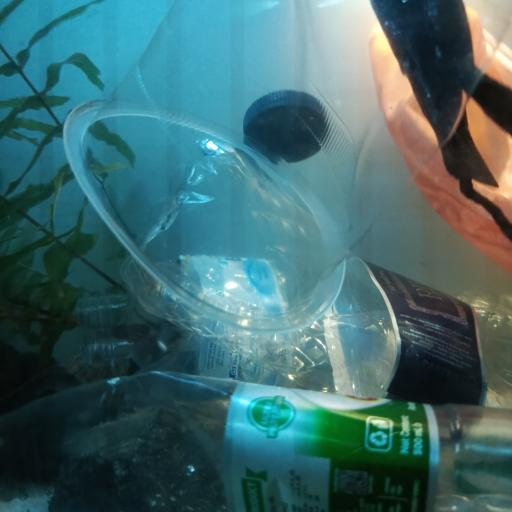bottle_cap: (243, 90, 330, 161)
mask: (365, 0, 512, 273), (370, 0, 511, 237)
plastic_bottle: (0, 369, 512, 512), (70, 253, 512, 378), (211, 250, 512, 402)
plastic_cup: (61, 0, 512, 335)
